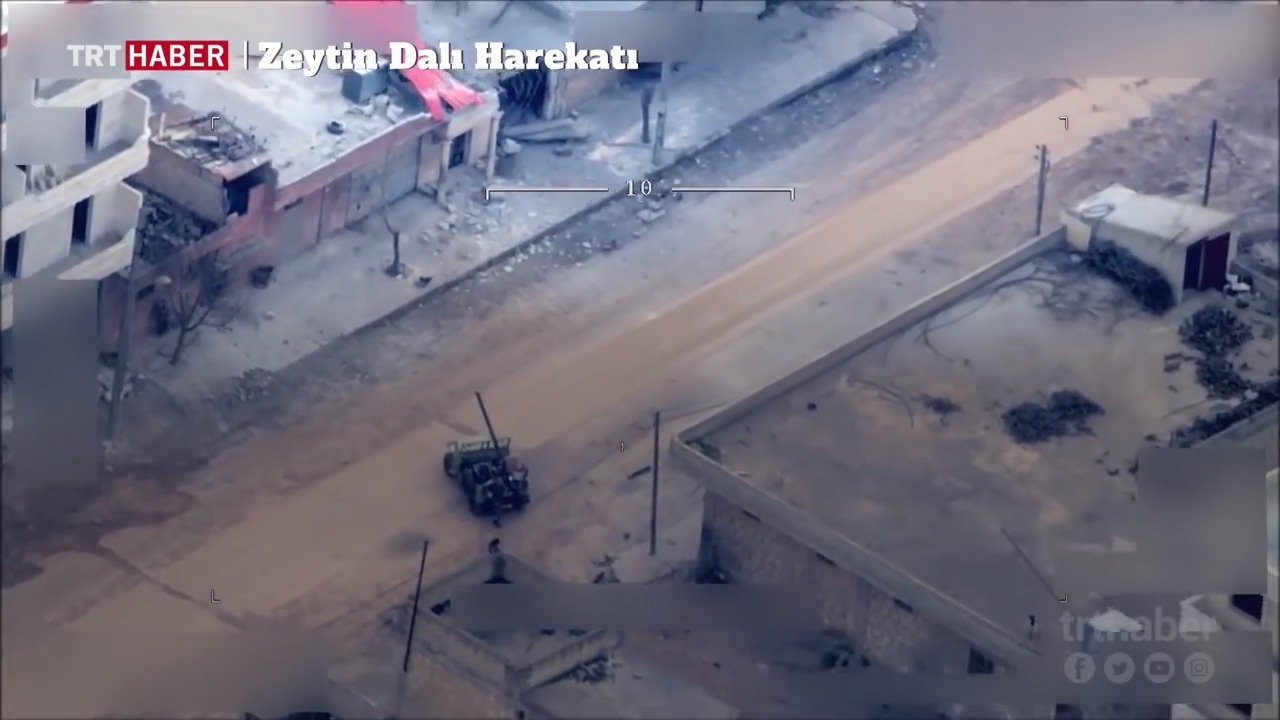arac: (439, 419, 543, 524)
